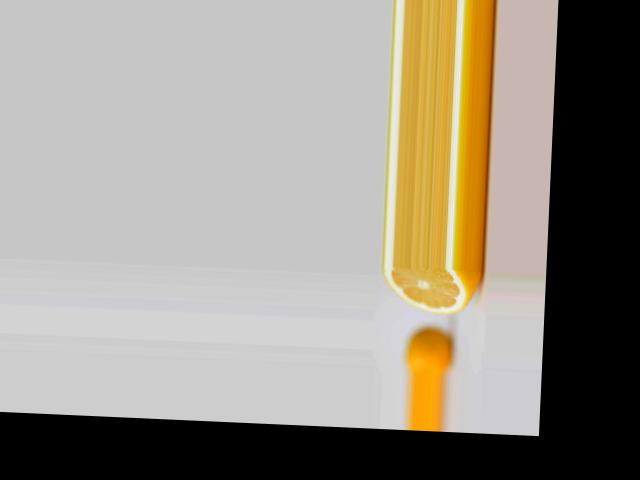lemon: (408, 329, 449, 376)
